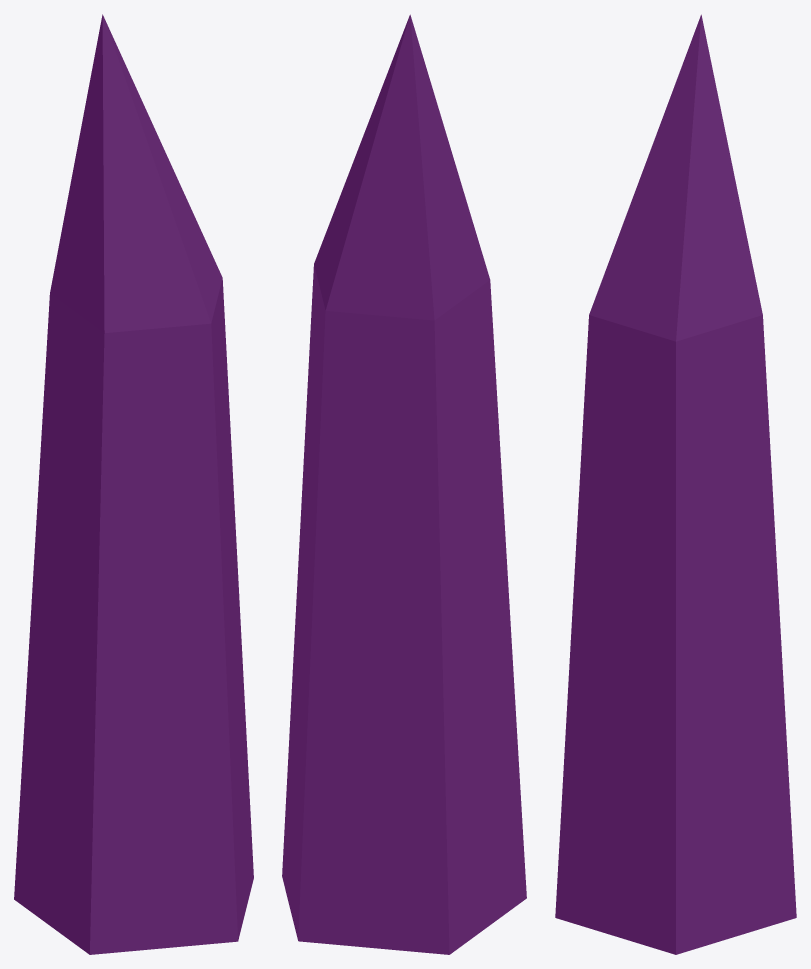
File: GEM_08_CursedObsidianShard.fbx
3 renders of one model, left to right at view 1: azimuth 30°, elevation 25°; view 2: azimuth 150°, elevation 25°; view 3: azimuth 270°, elevation 25°, orthographic. The views are drawn at different scales.
Visible parts, largest first — view 1: GEM_08_CursedObsidianShard; view 2: GEM_08_CursedObsidianShard; view 3: GEM_08_CursedObsidianShard.
Boxes of the visible parts, x1,y1,x2,y2 form: GEM_08_CursedObsidianShard: (14,14,253,954); GEM_08_CursedObsidianShard: (282,14,526,954); GEM_08_CursedObsidianShard: (555,14,796,954).
Bounding box in the file's own units: 0.4523 × 1.9 × 0.4755.
